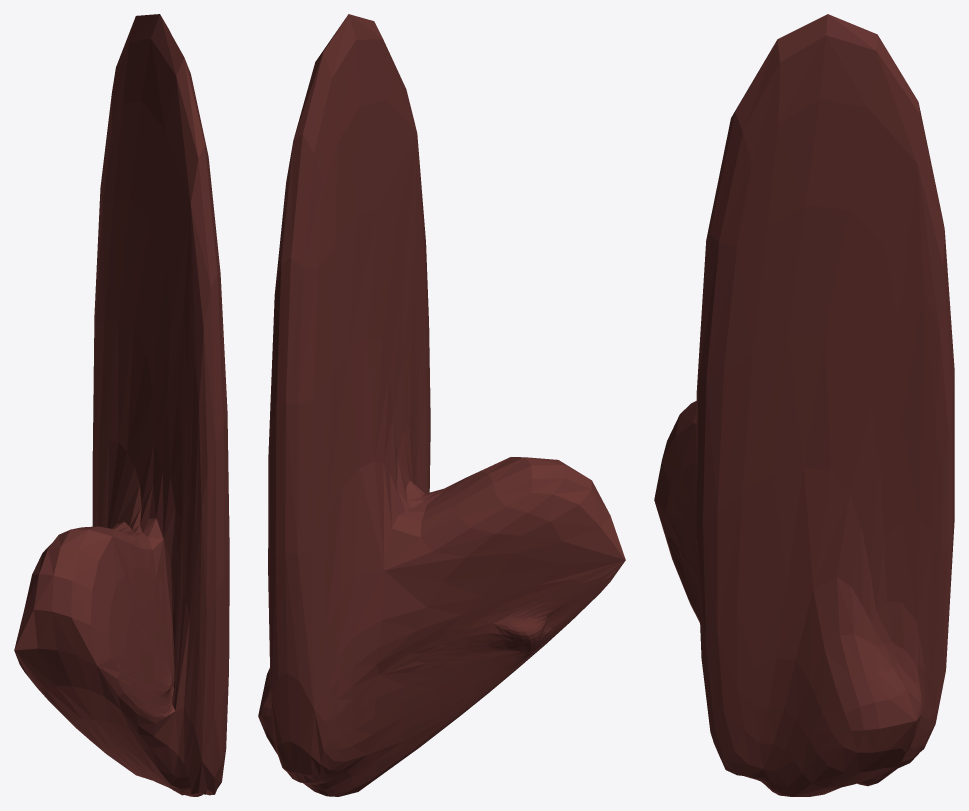
3 views of the same model, side by side, from view 1: azimuth 30°, elevation 25°; view 2: azimuth 150°, elevation 25°; view 3: azimuth 270°, elevation 25° (orthographic).
Parts seen in each view (by area): view 1: 172_Cube.713; view 2: 172_Cube.713; view 3: 172_Cube.713.
Boxes of the visible parts, box(x1,y1,x2,y2) form: 172_Cube.713: box(14, 14, 229, 796); 172_Cube.713: box(258, 14, 625, 796); 172_Cube.713: box(654, 14, 954, 796).
Bounding box in the file's own units: 4.34 × 11.62 × 4.08.
